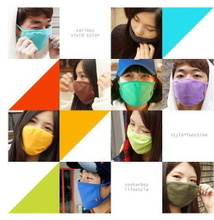face_mask: (172, 58, 207, 104), (22, 108, 55, 153), (119, 66, 153, 105), (19, 12, 51, 51), (167, 164, 197, 205), (127, 110, 153, 152), (129, 11, 158, 44), (77, 166, 98, 206), (74, 63, 93, 99)
